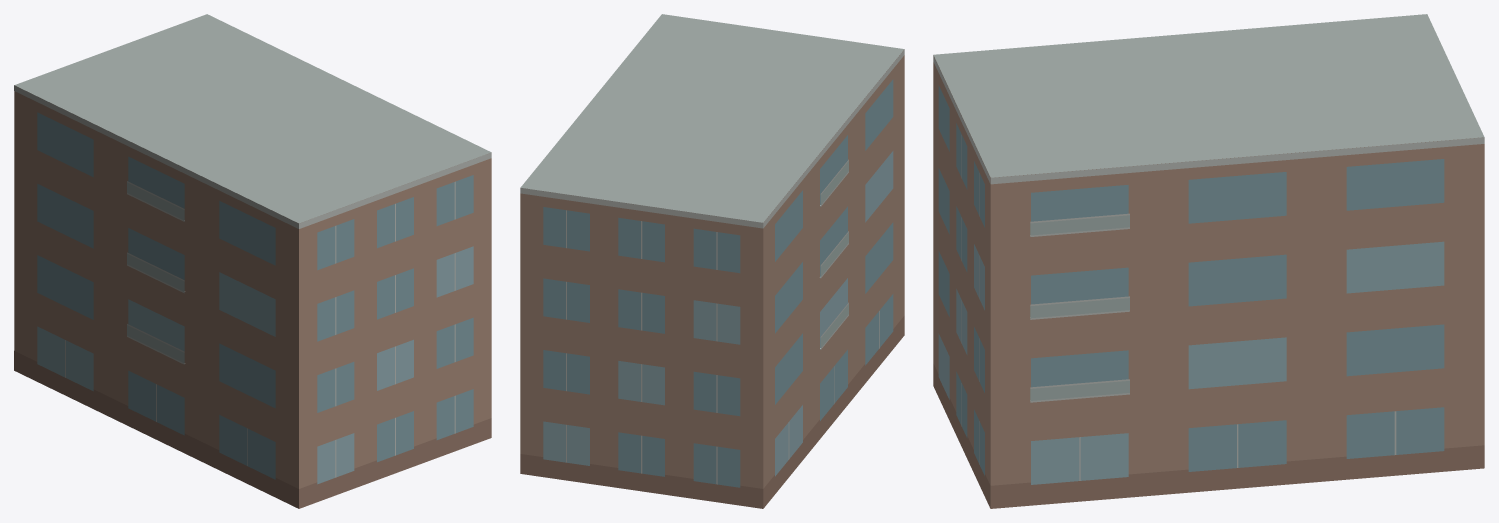
The model's file is survey-upis-32974949.glb.
The picture shows the model from 3 angles, left to right: view 1: azimuth 30°, elevation 25°; view 2: azimuth 150°, elevation 25°; view 3: azimuth 270°, elevation 25°; orthographic projection. The views are drawn at different scales.
Visible parts, largest first — view 1: survey-upis-32974949.tmp; view 2: survey-upis-32974949.tmp; view 3: survey-upis-32974949.tmp.
Boxes of the visible parts, <box> form: survey-upis-32974949.tmp: <box>14,14,491,508</box>; survey-upis-32974949.tmp: <box>520,14,904,508</box>; survey-upis-32974949.tmp: <box>933,14,1484,508</box>.
Size of the model in its own units: 12.95 by 12.2 by 18.42.
